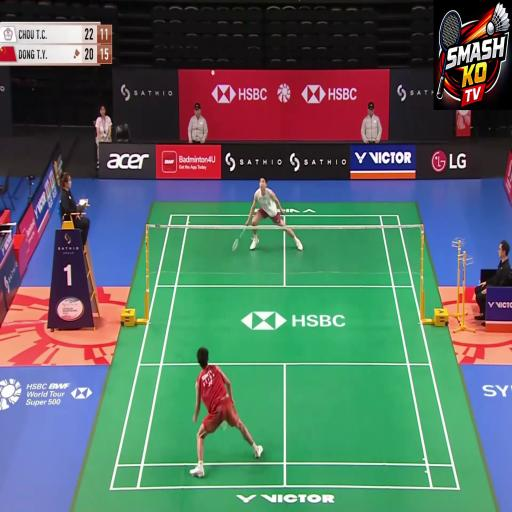player: (179, 316, 251, 469), (246, 148, 299, 274)
